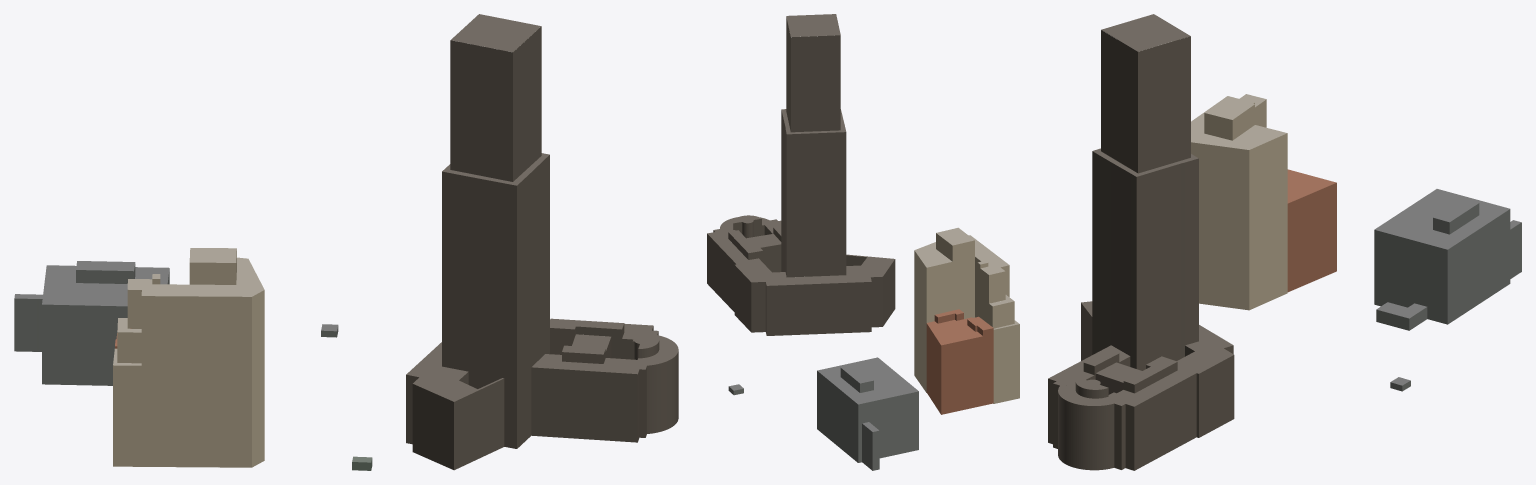
File: tile--3_9.glb
The picture shows the model from 3 angles, left to right: view 1: azimuth 30°, elevation 25°; view 2: azimuth 150°, elevation 25°; view 3: azimuth 270°, elevation 25°; orthographic projection. The views are drawn at different scales.
Visible parts, largest first — view 1: wall, roof; view 2: wall, roof; view 3: wall, roof.
Part boxes in pixels (bbox=[...]): wall: bbox=[14, 26, 678, 470]; roof: bbox=[14, 14, 678, 462]; wall: bbox=[707, 17, 1019, 470]; roof: bbox=[707, 14, 1019, 431]; wall: bbox=[1048, 30, 1521, 470]; roof: bbox=[1048, 14, 1521, 406].
Bounding box in the file's own units: 225 × 175 × 203.
